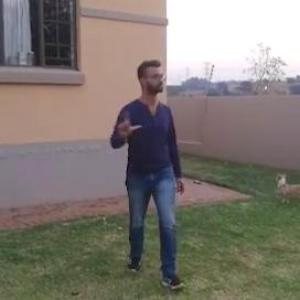land_hand: (110, 106, 144, 141)
